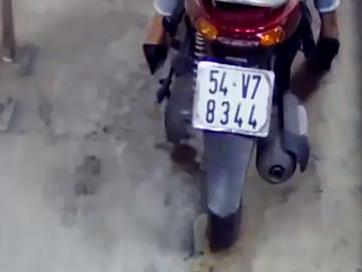num_plate: (190, 58, 276, 138)
